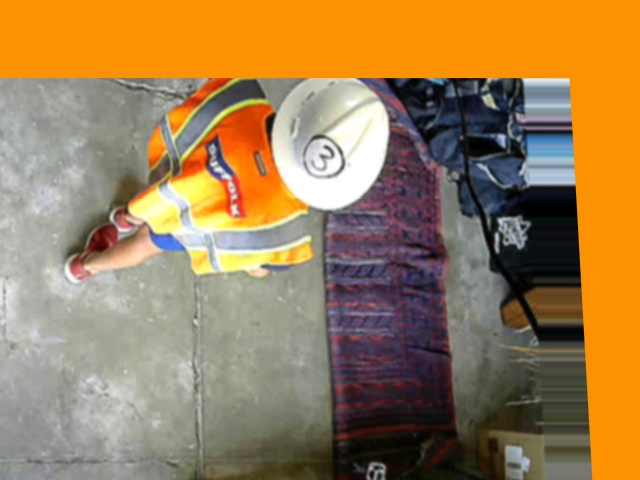three: (301, 134, 345, 177)
